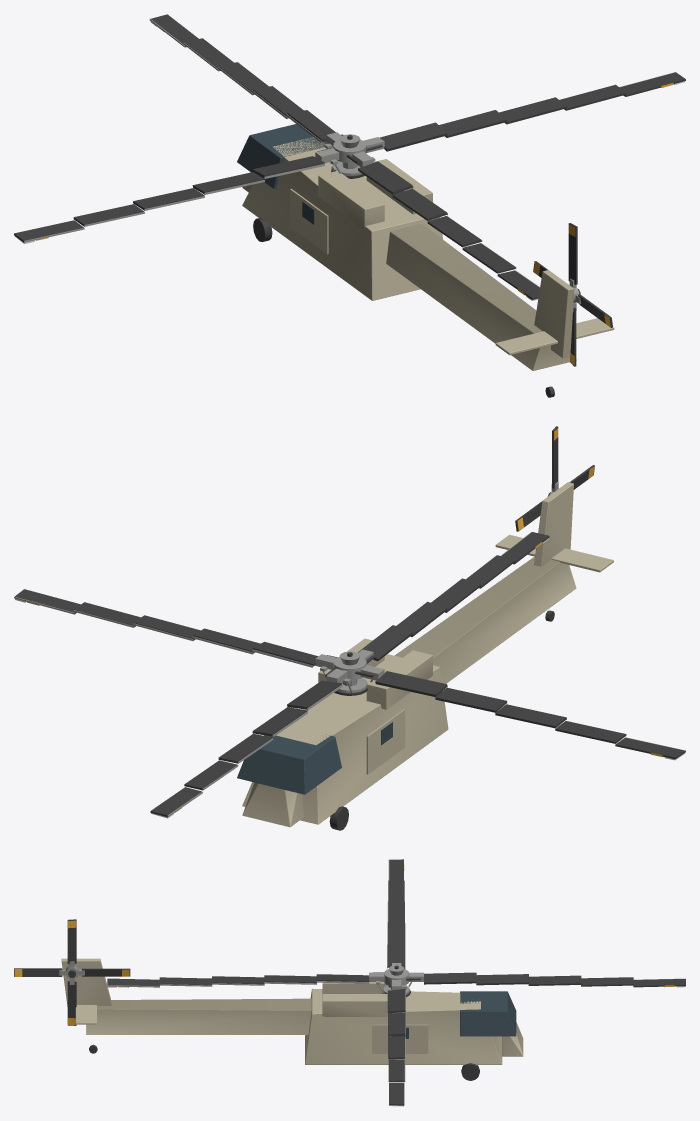
The model's file is transport_usa.glb.
3 renders of one model, top to bottom at view 1: azimuth 30°, elevation 25°; view 2: azimuth 150°, elevation 25°; view 3: azimuth 270°, elevation 25°, orthographic. The views are drawn at different scales.
Visible parts, largest first — view 1: body, rotor, trotor; view 2: body, rotor, trotor; view 3: body, rotor, trotor.
Part boxes in pixels (x1,y1,x2,y2): body: (237,124,614,397); rotor: (14,14,685,300); trotor: (533,223,612,366); body: (237,482,613,830); rotor: (14,532,685,818); trotor: (515,426,594,531); body: (61,958,523,1080); rotor: (107,859,685,1106); trotor: (14,919,130,1025).
Size of the model in its own units: 16.41 by 4.66 by 19.06.
